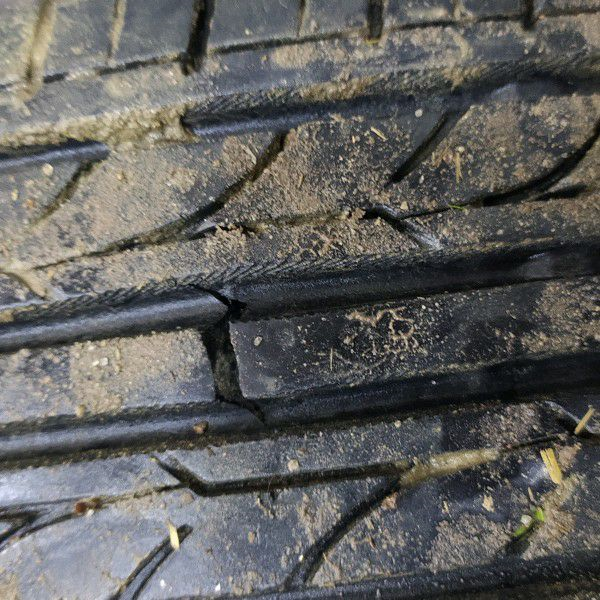tr: (178, 276, 273, 436)
